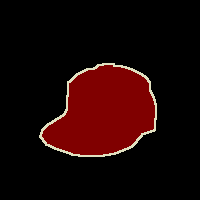hat: (40, 64, 156, 156)
